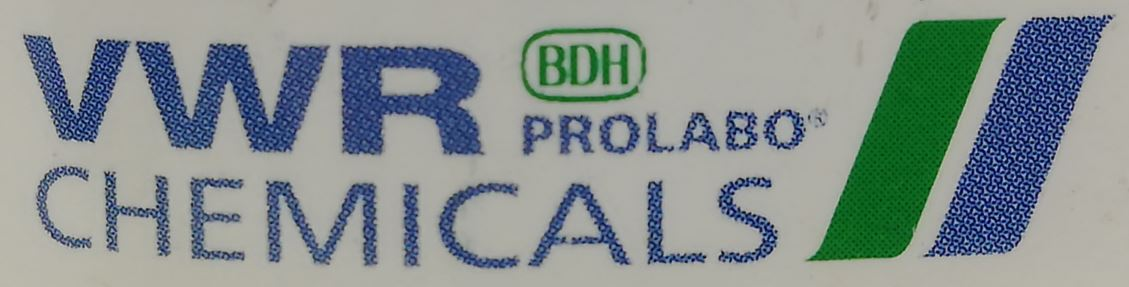VWR: (18, 14, 1119, 272)
